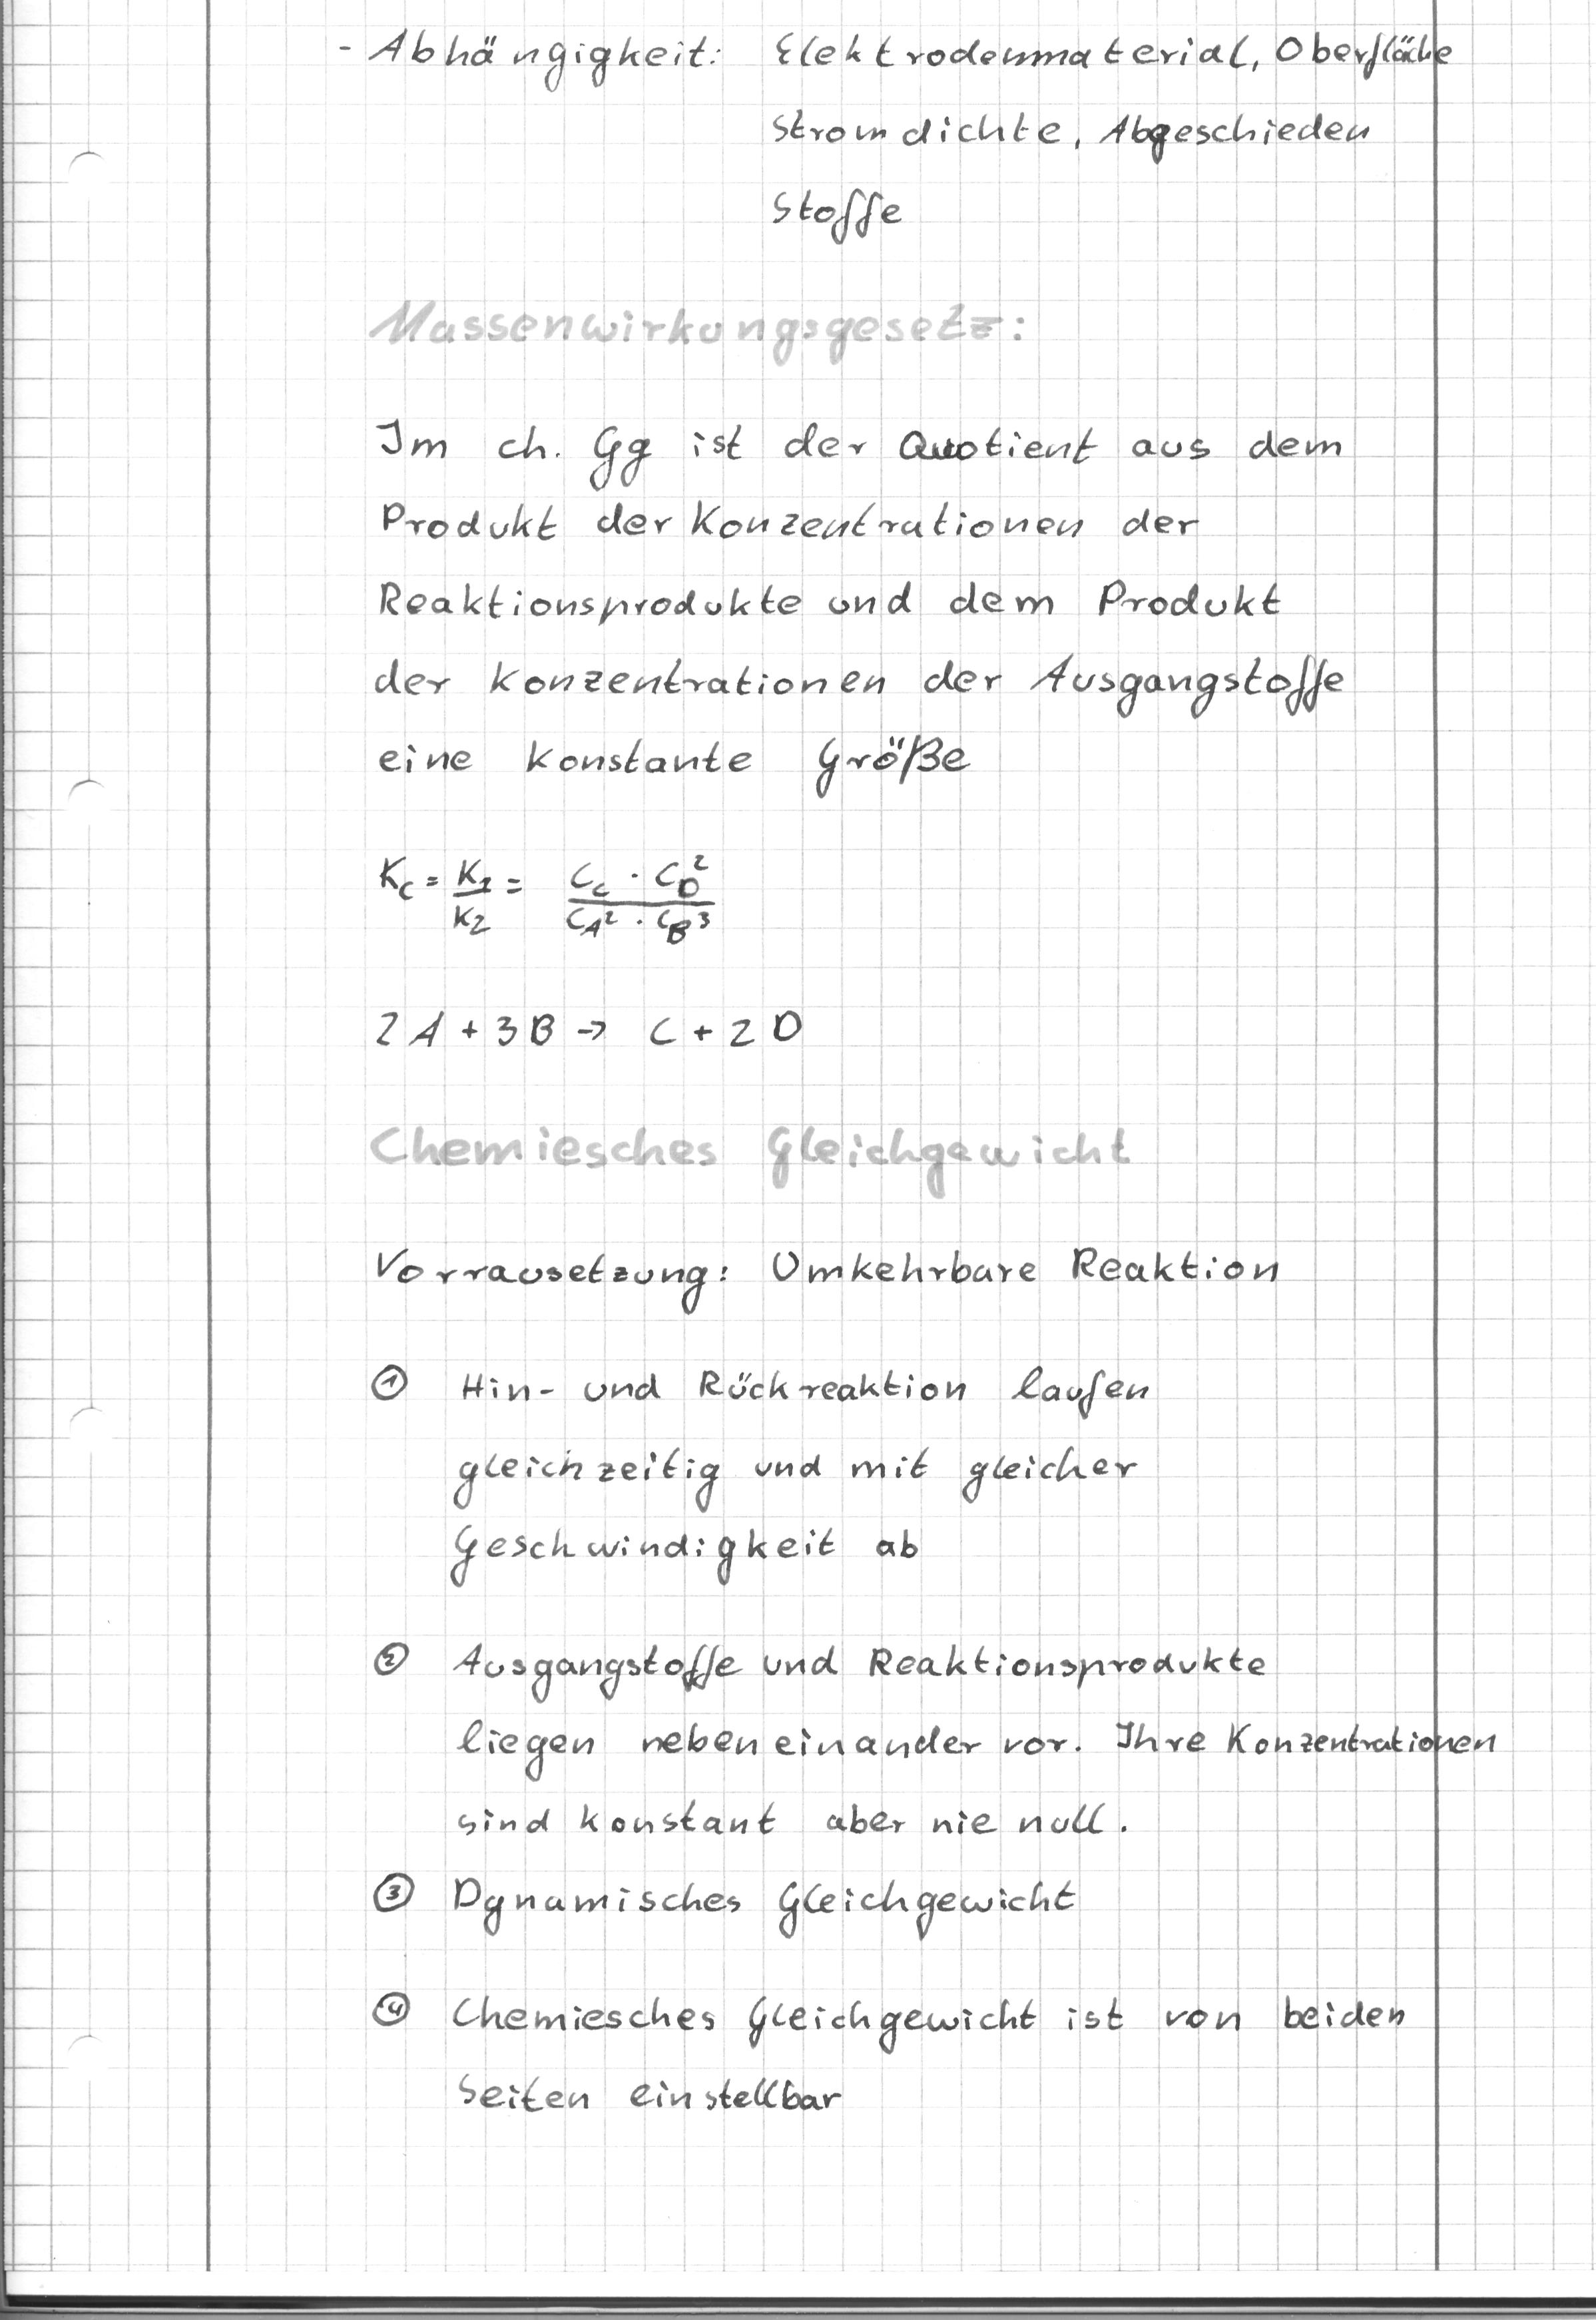word: (360, 399, 1365, 813), (442, 1636, 1508, 1941), (442, 1359, 1155, 1596), (762, 14, 1463, 250), (434, 1976, 1422, 2132), (354, 1224, 1302, 1333), (362, 832, 759, 976), (356, 978, 830, 1079), (325, 13, 740, 105)
